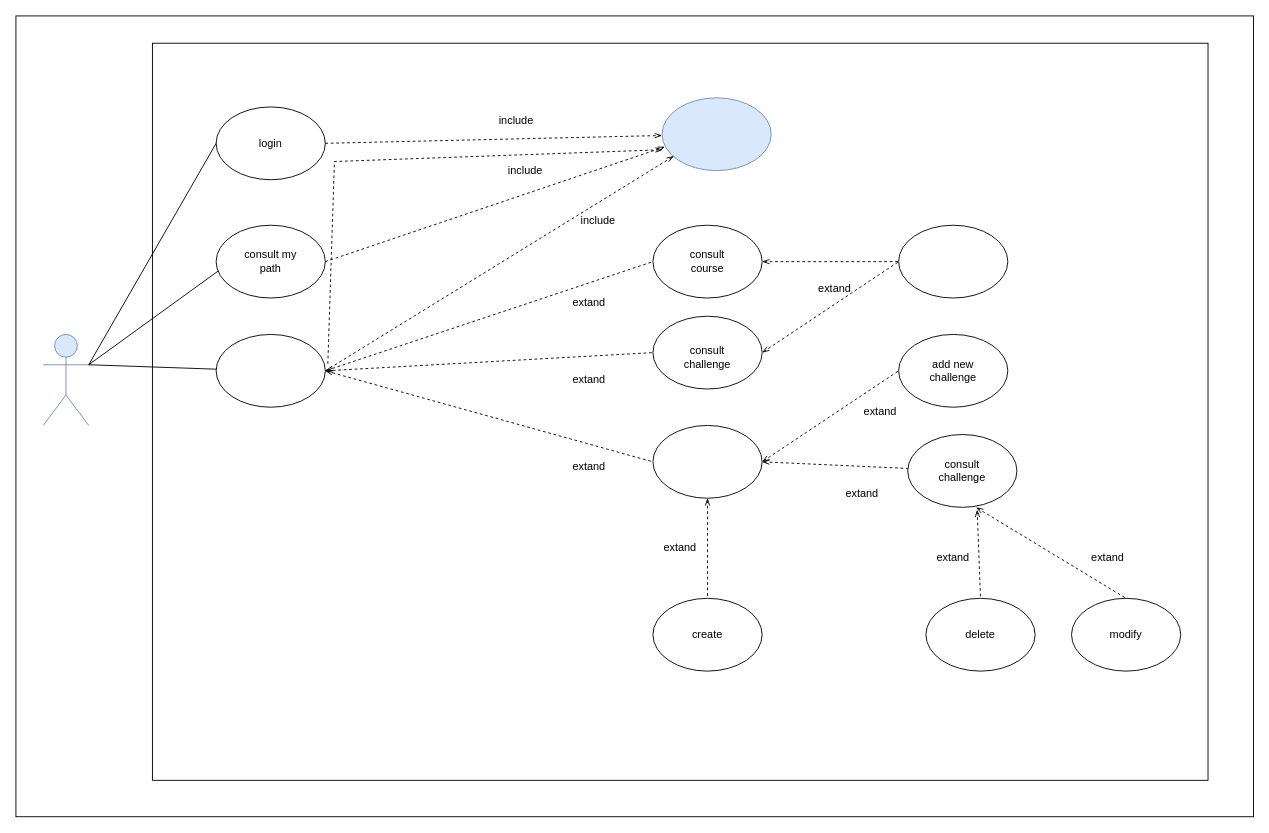
Image size: 1269x833. Some labels were removed from this diagram. Each missing label, with the centre of its shape:
authetificate: the point at 716,134
consult gamified course: the point at 270,370
intructor: the point at 65,379
my challenges: the point at 707,461
review: the point at 953,261
